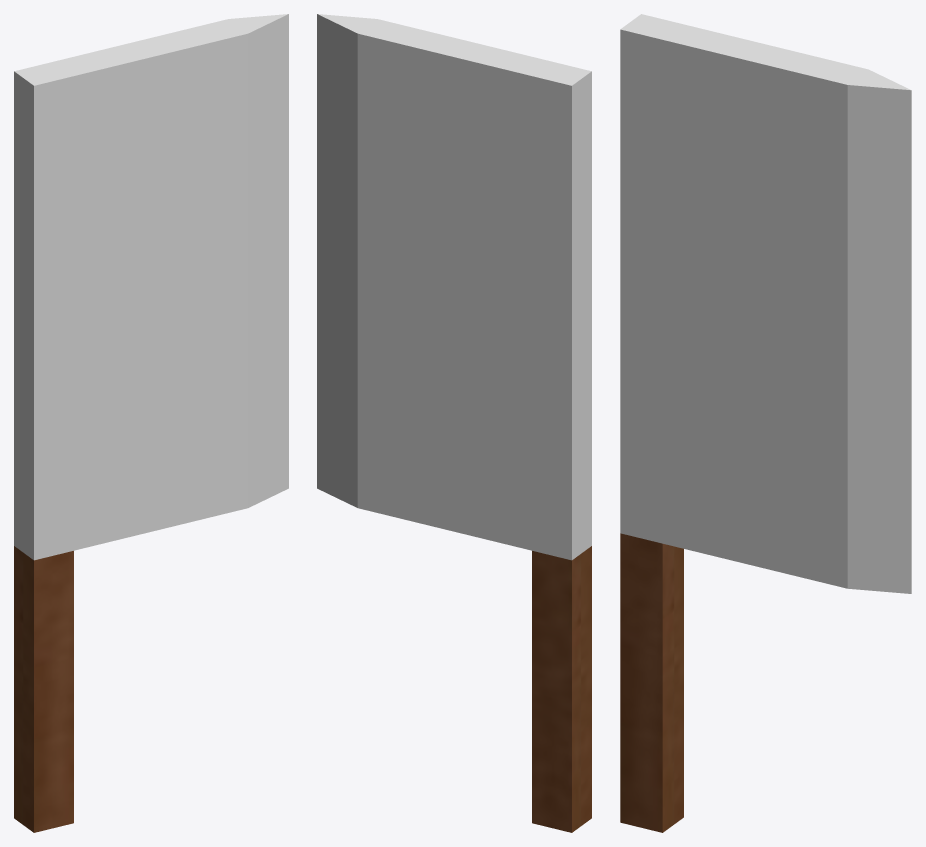
Rendered from knife 3.dae.
3 views of the same model, side by side, from view 1: azimuth 30°, elevation 25°; view 2: azimuth 150°, elevation 25°; view 3: azimuth 330°, elevation 25° (orthographic). The views are drawn at different scales.
Parts seen in each view (by area): view 1: SketchUp_001; view 2: SketchUp_001; view 3: SketchUp_001.
Boxes of the visible parts, x1,y1,x2,y2 form: SketchUp_001: (14,14,288,832); SketchUp_001: (317,14,591,832); SketchUp_001: (620,14,911,832).
Size of the model in its own units: 0.2735 by 0.0356 by 0.7377.
2 materials, 2 textured.
